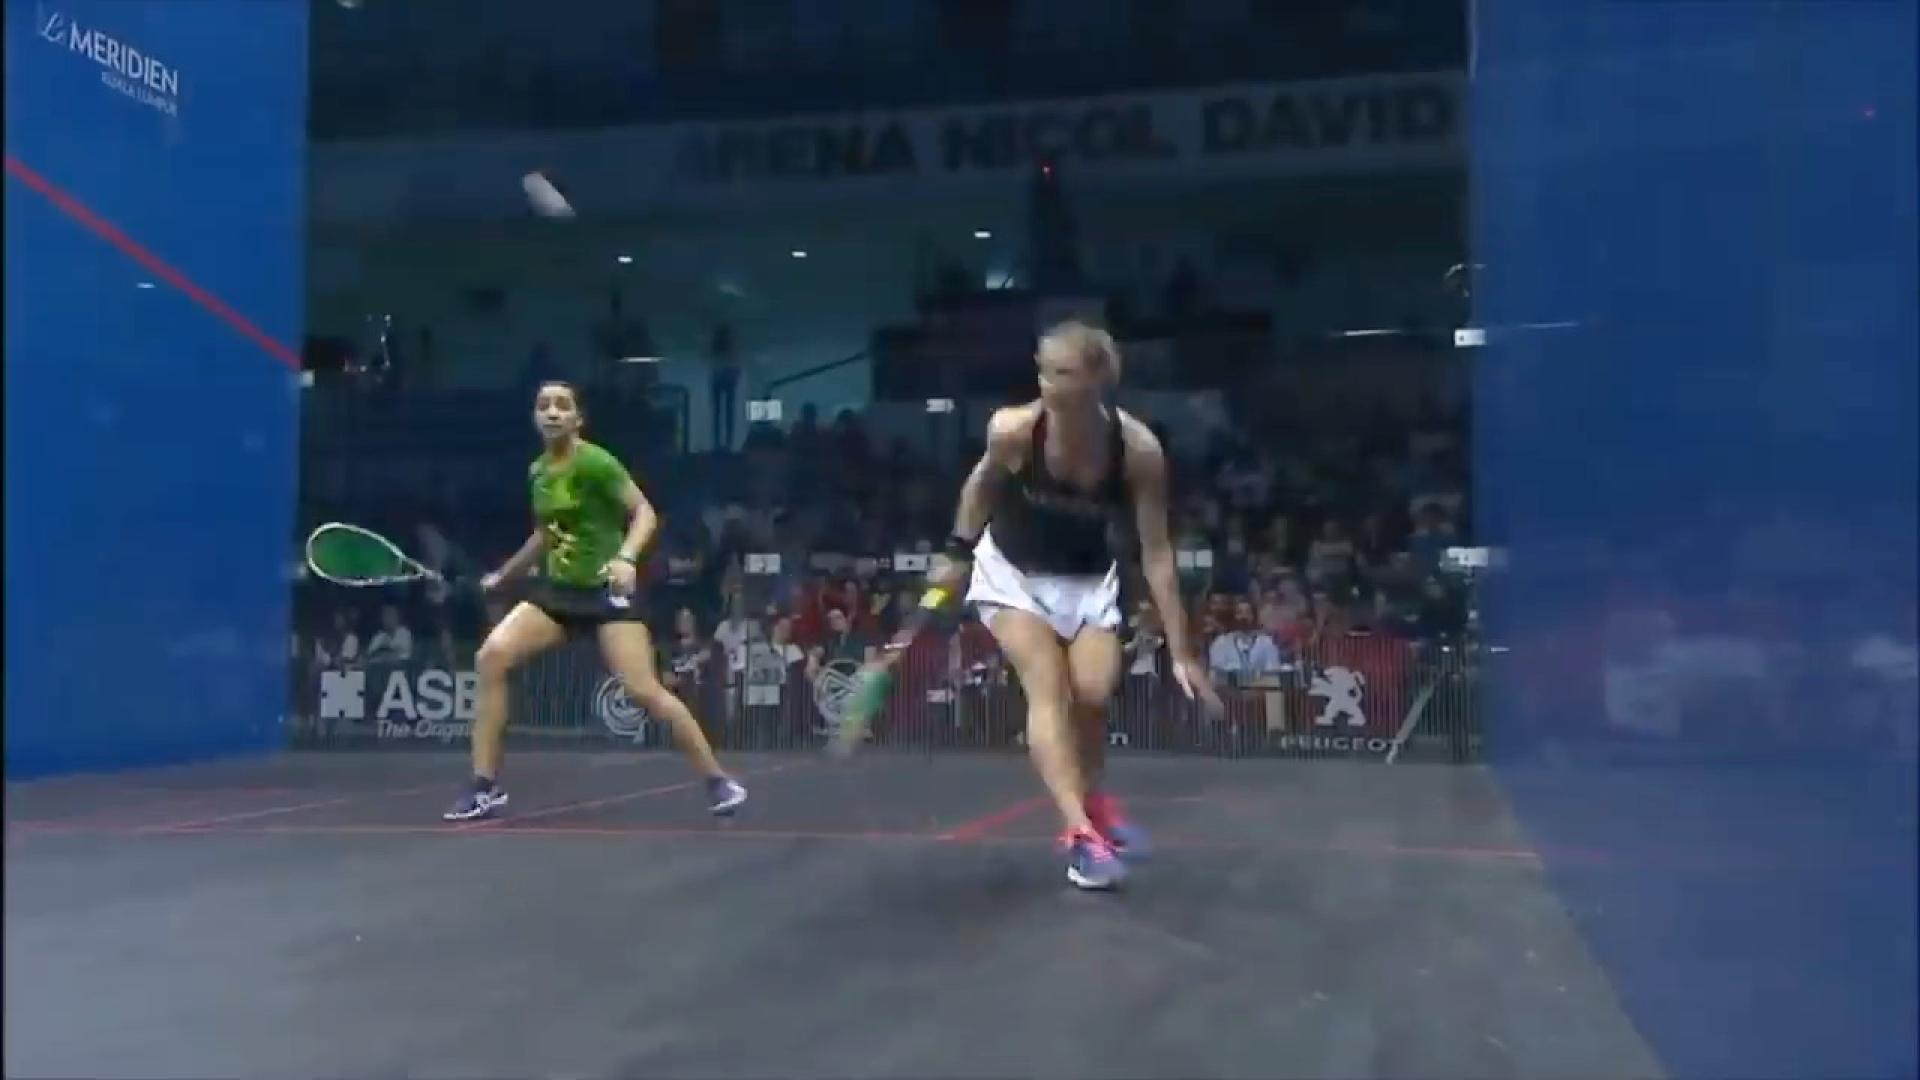Squash-Ball: (502, 160, 589, 229)
